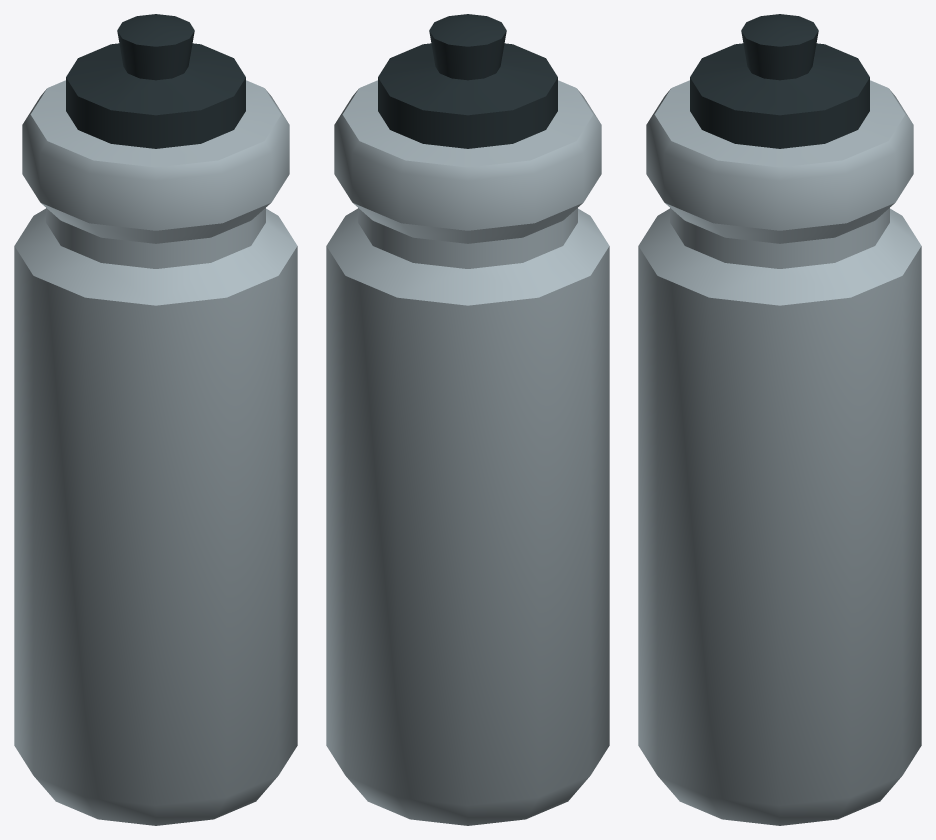
File: waterbottle.gltf.glb
3 renders of one model, left to right at view 1: azimuth 30°, elevation 25°; view 2: azimuth 150°, elevation 25°; view 3: azimuth 270°, elevation 25°, orthographic.
Parts seen in each view (by area): view 1: waterbottle; view 2: waterbottle; view 3: waterbottle.
Boxes of the visible parts, x1,y1,x2,y2 form: waterbottle: (14,14,297,825); waterbottle: (326,14,609,825); waterbottle: (638,14,921,825).
Size of the model in its own units: 0.2163 by 0.6369 by 0.2163.
